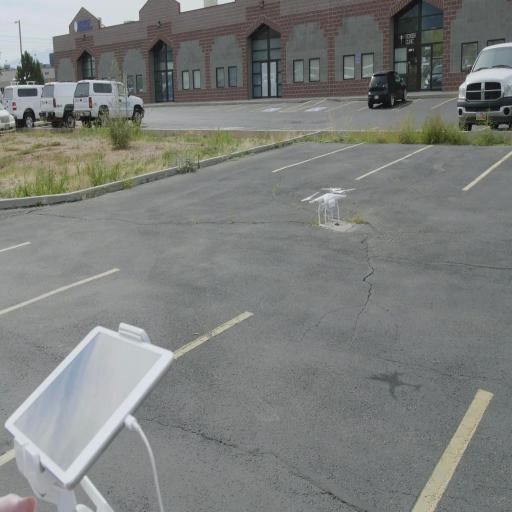drone: (306, 182, 352, 227)
